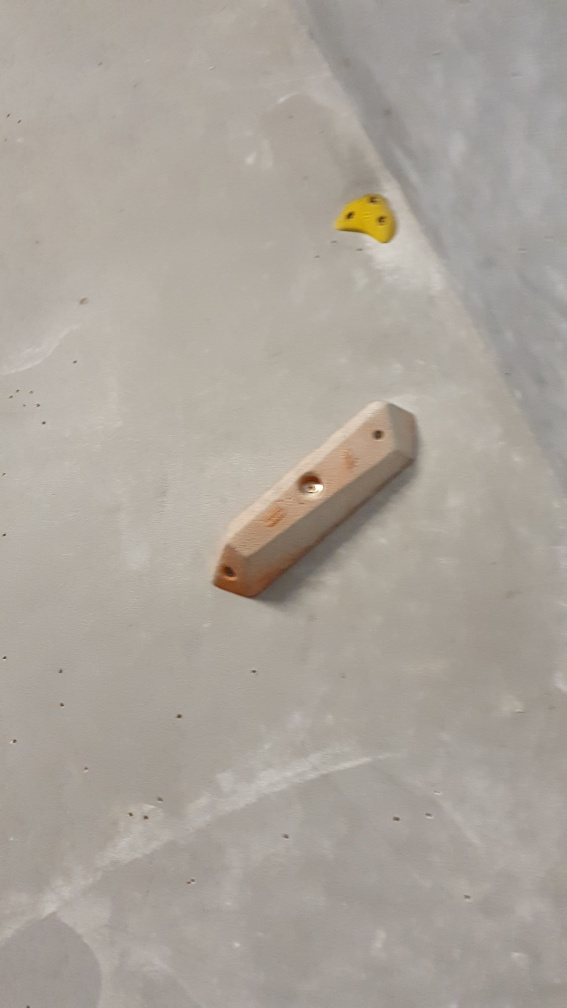Pinch: (206, 394, 418, 601)
